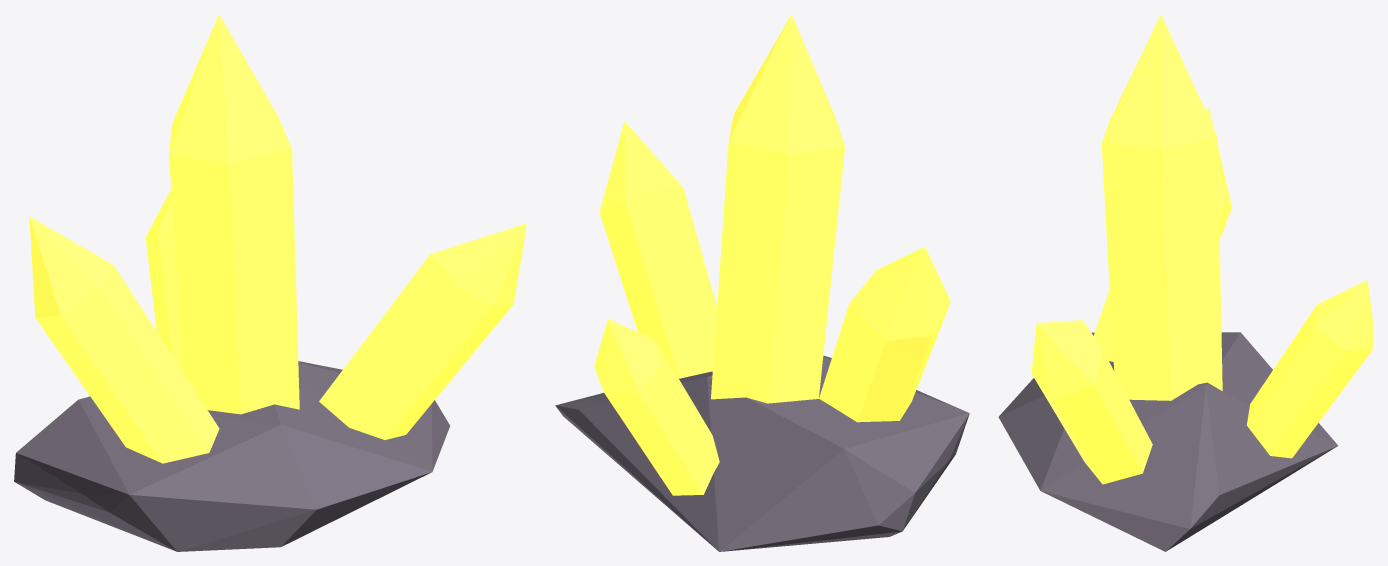
Rendered from Crystal_ClusterSmall_Gold.glb.
The picture shows the model from 3 angles, left to right: view 1: azimuth 30°, elevation 25°; view 2: azimuth 150°, elevation 25°; view 3: azimuth 270°, elevation 25°; orthographic projection. The views are drawn at different scales.
Visible parts, largest first — view 1: Crystal_ClusterSmall_gold; view 2: Crystal_ClusterSmall_gold; view 3: Crystal_ClusterSmall_gold.
Part boxes in pixels (x1,y1,x2,y2): Crystal_ClusterSmall_gold: (14,14,526,551); Crystal_ClusterSmall_gold: (555,14,969,551); Crystal_ClusterSmall_gold: (998,14,1373,551).
Bounding box in the file's own units: 0.5883 × 0.6701 × 0.512.
